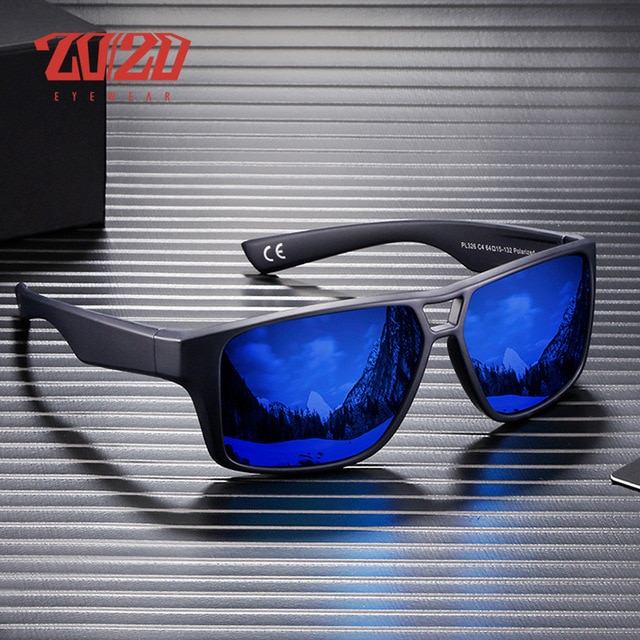sunglasses: (19, 227, 622, 467)
